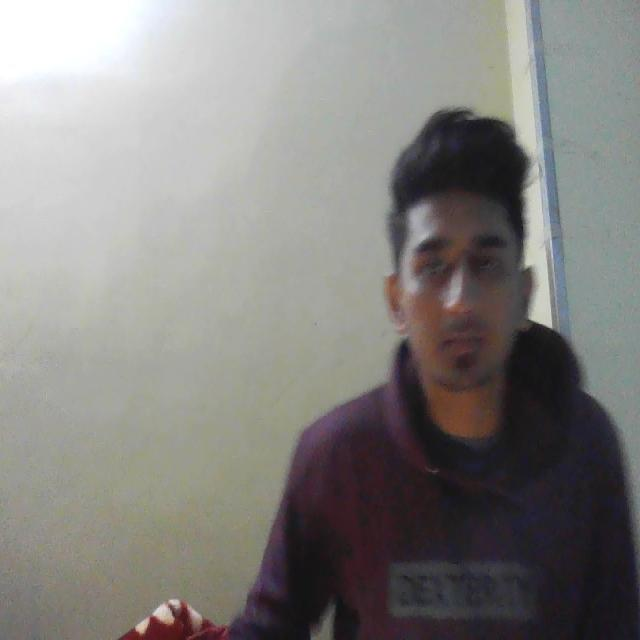real: (377, 105, 549, 431)
